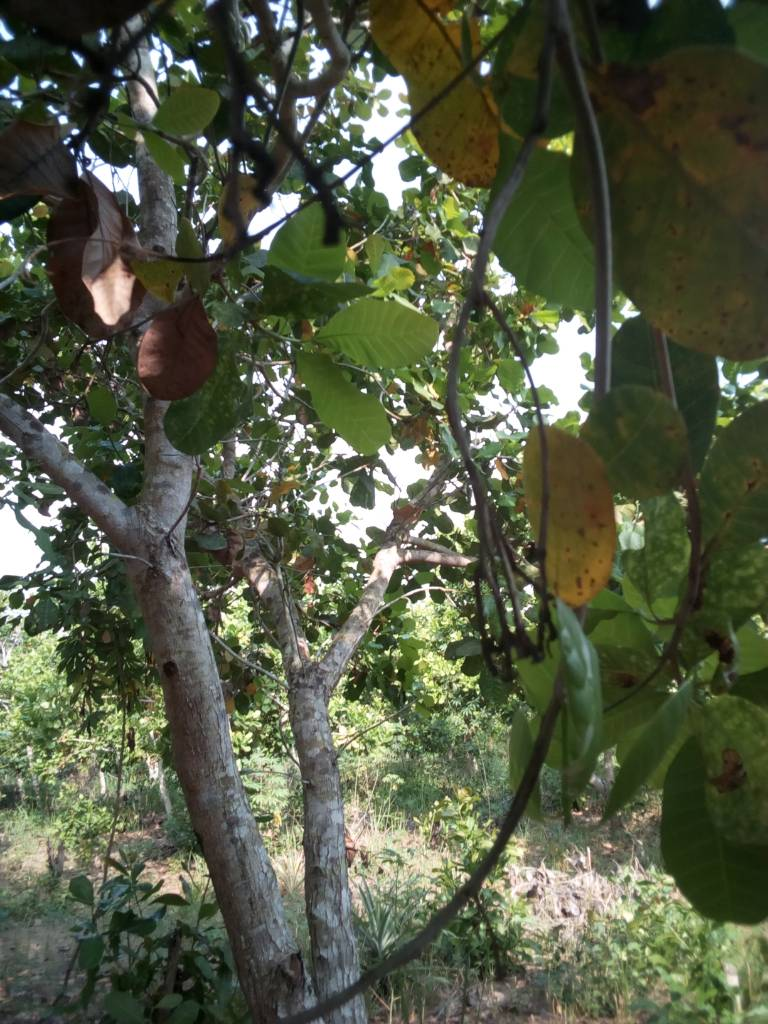Bactériose: (583, 52, 768, 357), (525, 424, 613, 608)
